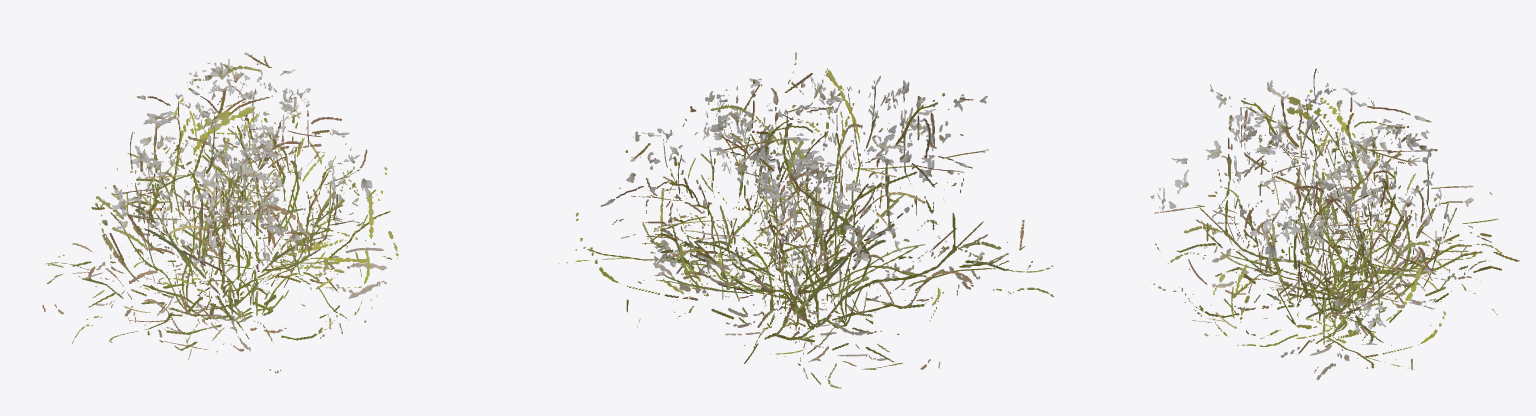
The model's file is flower_heliophila.glb.
3 renders of one model, left to right at view 1: azimuth 30°, elevation 25°; view 2: azimuth 150°, elevation 25°; view 3: azimuth 270°, elevation 25°, orthographic. The views are drawn at different scales.
Parts seen in each view (by area): view 1: heliophila_medium_LOD0, heliophila_small_LOD0; view 2: heliophila_medium_LOD0, heliophila_small_LOD0; view 3: heliophila_medium_LOD0, heliophila_small_LOD0.
Boxes of the visible parts, left/top/right/bottom form: heliophila_medium_LOD0: left=42, top=52, right=398, bottom=373; heliophila_small_LOD0: left=147, top=139, right=363, bottom=306; heliophila_medium_LOD0: left=558, top=52, right=1054, bottom=388; heliophila_small_LOD0: left=650, top=132, right=853, bottom=324; heliophila_medium_LOD0: left=1150, top=68, right=1519, bottom=379; heliophila_small_LOD0: left=1254, top=168, right=1430, bottom=322.
Size of what is drawn, in the model's own units: 0.7624 by 0.3714 by 0.6462.
1 material, 1 textured.
